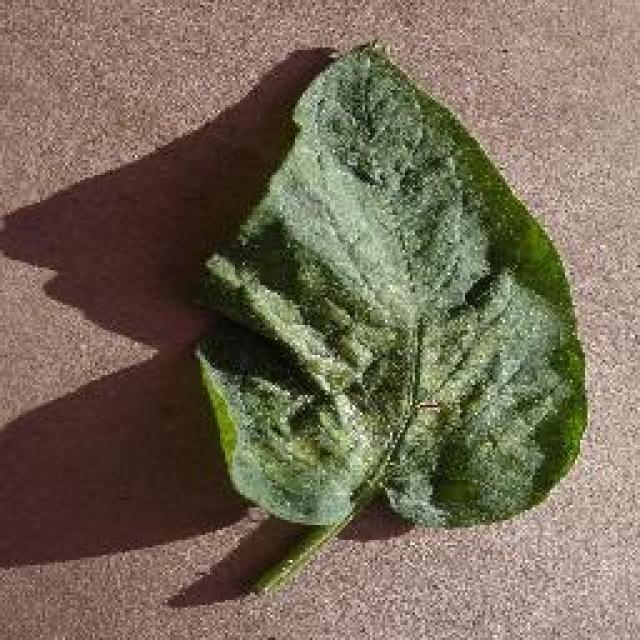Tomato spider mites leaf: (197, 40, 590, 530)
